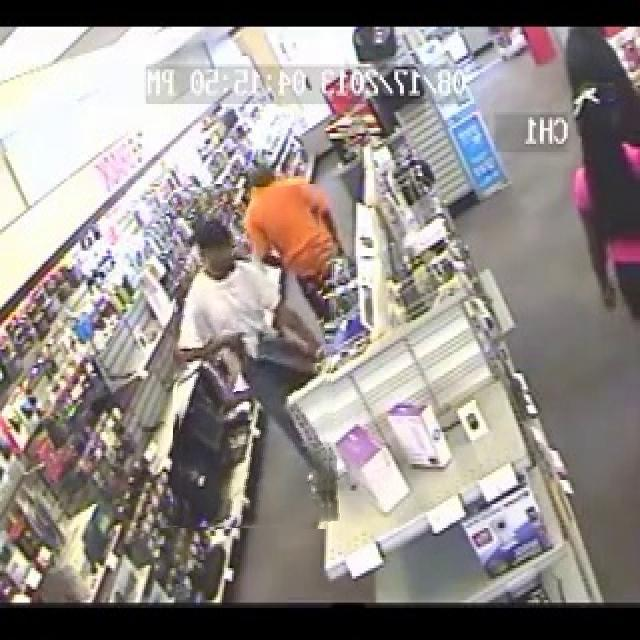Shoplifting: (173, 187, 335, 529)
